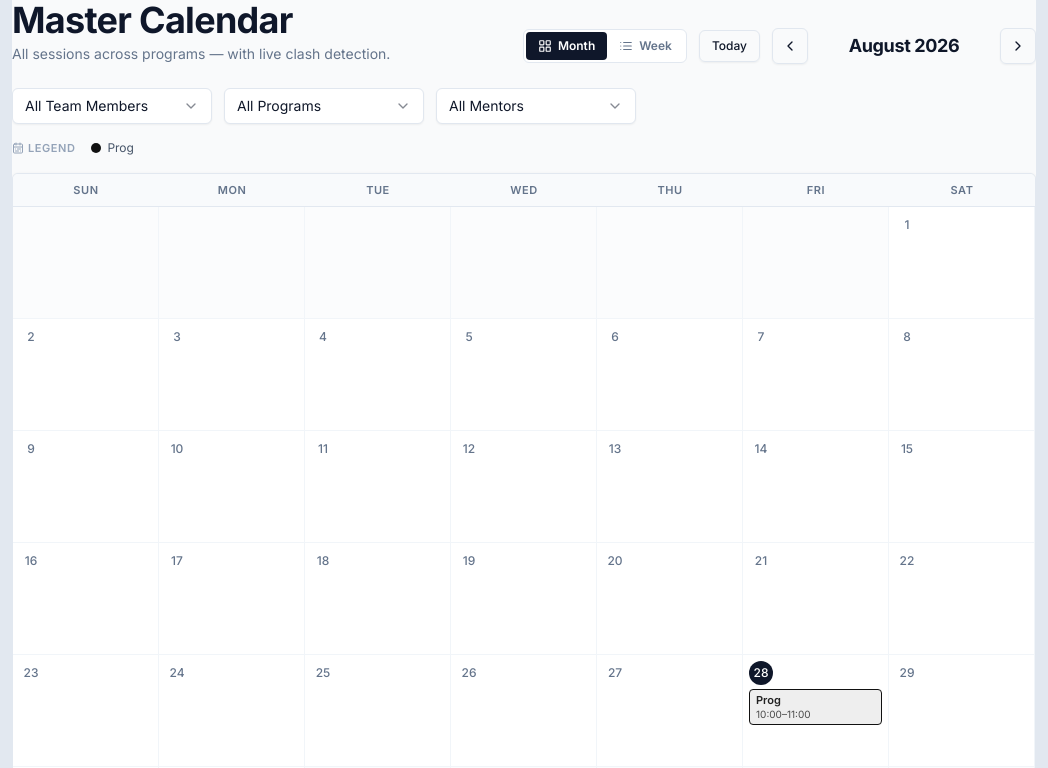
CalendarPage › switching to week view shows the agenda
The width and height of the screenshot is (1048, 768).
Expected: the button with test id "cal-session-block" is shown, [749, 689, 882, 725]
Click the button with test id "view-toggle-week" at (646, 46), box [607, 32, 684, 60]
(page scrolled)
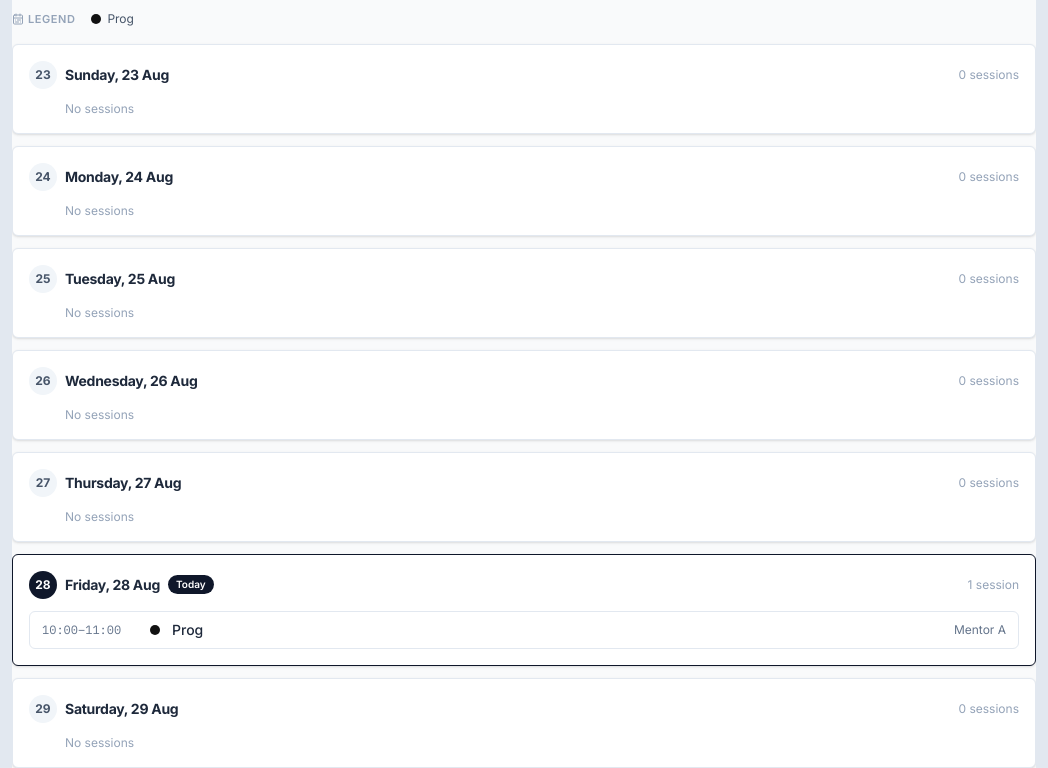
Expected: the element with test id "week-agenda" is shown
Expected: the button with test id "week-session-row" is shown, [29, 610, 1019, 648]
